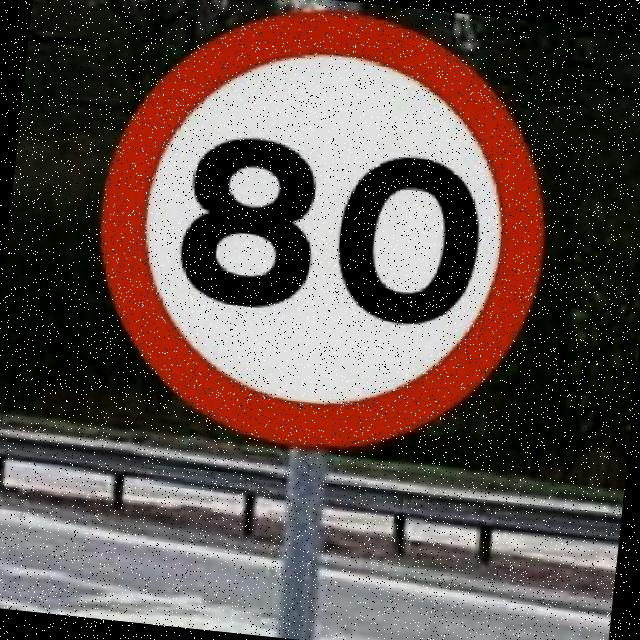Ograniczenie predkosci do 80: (126, 30, 518, 412)
